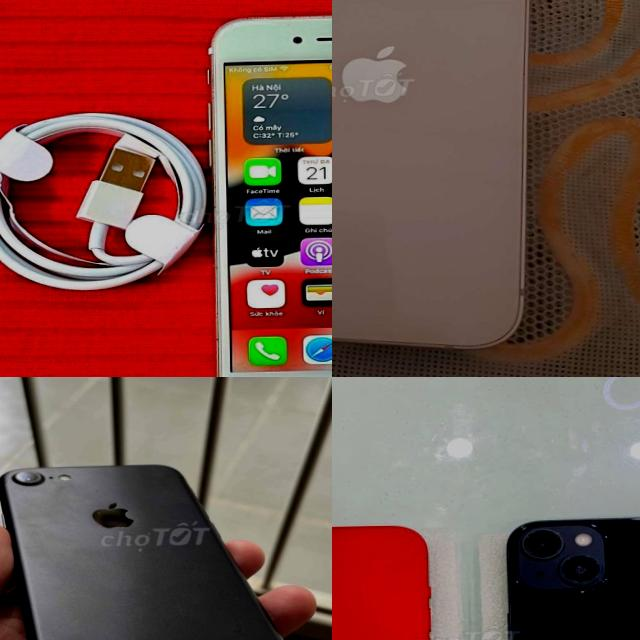gen_12_13: (332, 0, 552, 350)
gen_7_8: (0, 456, 323, 640), (204, 3, 332, 377)
scratch: (232, 9, 332, 26), (12, 464, 45, 487)
